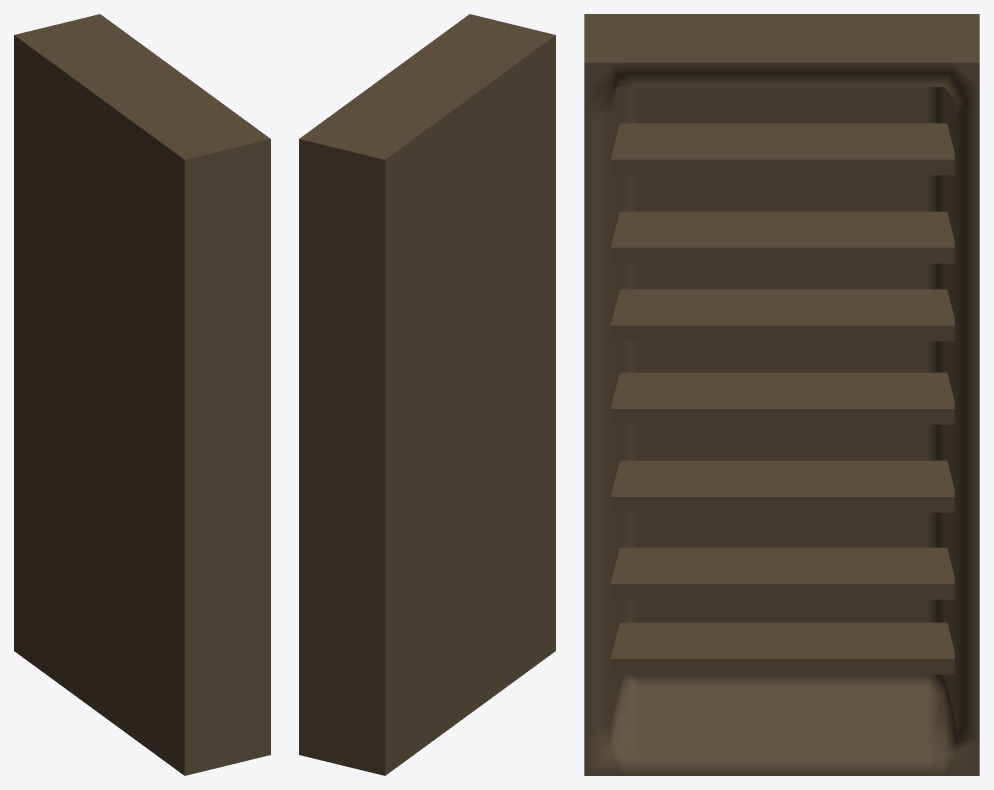
The model's file is bookshelf.fbx.
3 renders of one model, left to right at view 1: azimuth 30°, elevation 25°; view 2: azimuth 150°, elevation 25°; view 3: azimuth 270°, elevation 25°, orthographic. The views are drawn at different scales.
Parts seen in each view (by area): view 1: shelf_008; view 2: shelf_008; view 3: shelf_008.
Part boxes in pixels (x1,y1,x2,y2): shelf_008: (14, 14, 270, 775); shelf_008: (299, 14, 555, 775); shelf_008: (584, 14, 979, 775).
Size of the model in its own units: 0.4632 by 3.17 by 1.59.
